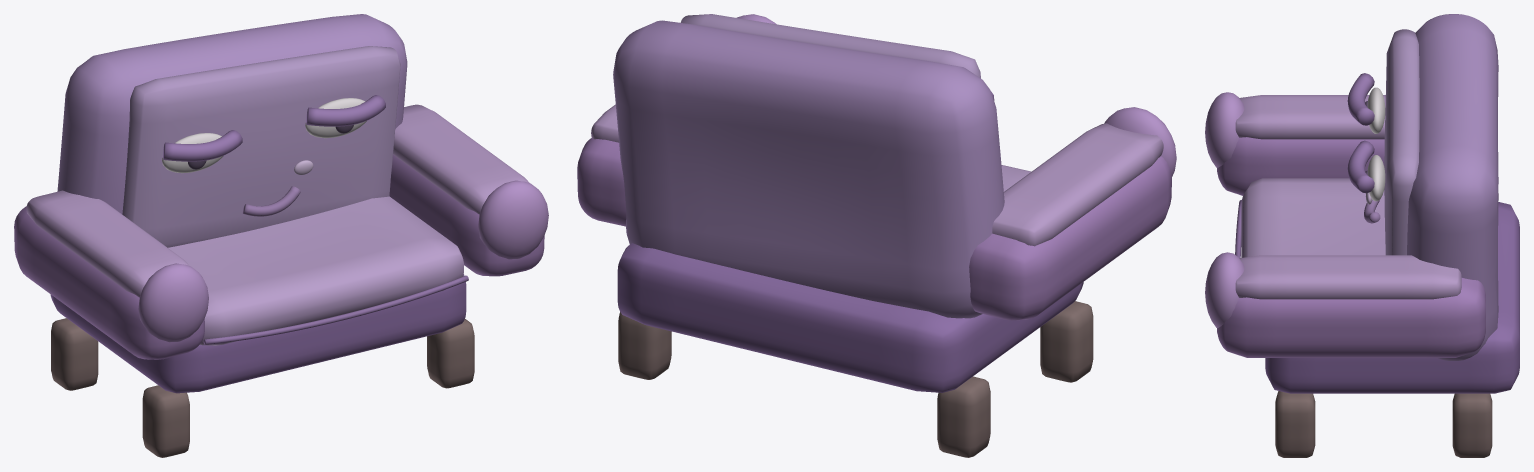
File: bankhanger.glb
The picture shows the model from 3 angles, left to right: view 1: azimuth 30°, elevation 25°; view 2: azimuth 150°, elevation 25°; view 3: azimuth 270°, elevation 25°; orthographic projection. The views are drawn at different scales.
Parts seen in each view (by area): view 1: bankhanger; view 2: bankhanger; view 3: bankhanger.
Boxes of the visible parts, box(x1,y1,x2,y2) form: bankhanger: box(14, 14, 548, 457); bankhanger: box(577, 14, 1176, 457); bankhanger: box(1205, 14, 1519, 457).
Bounding box in the file's own units: 0.8 × 0.6 × 0.544.
